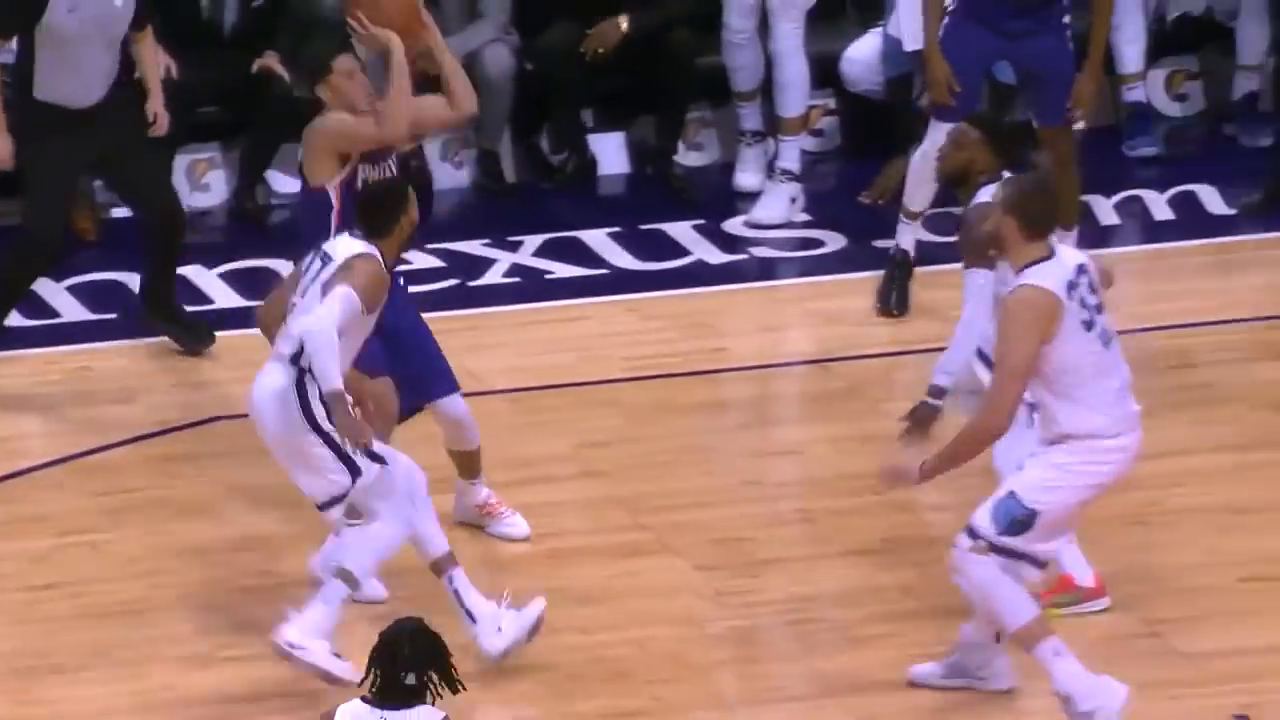ball: (350, 1, 431, 48)
